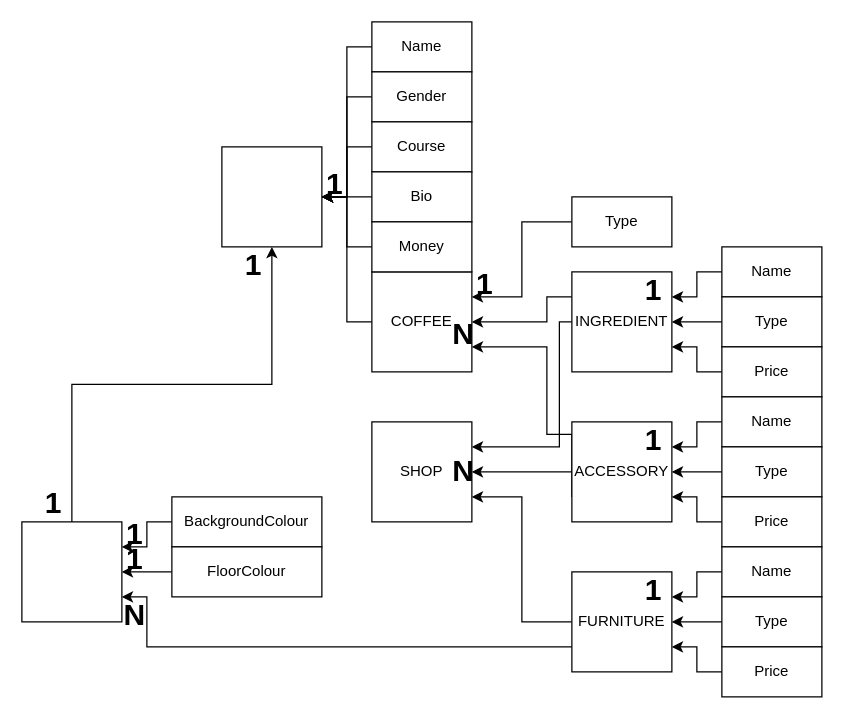
Some shapes in this 844 by 719 pixel diagram are drawn without their labels. Here are the shapes that lost their labels. From the top down, the centre of each, then its label:
the point at 271,196: STUDENT
the point at 71,571: CAFE
